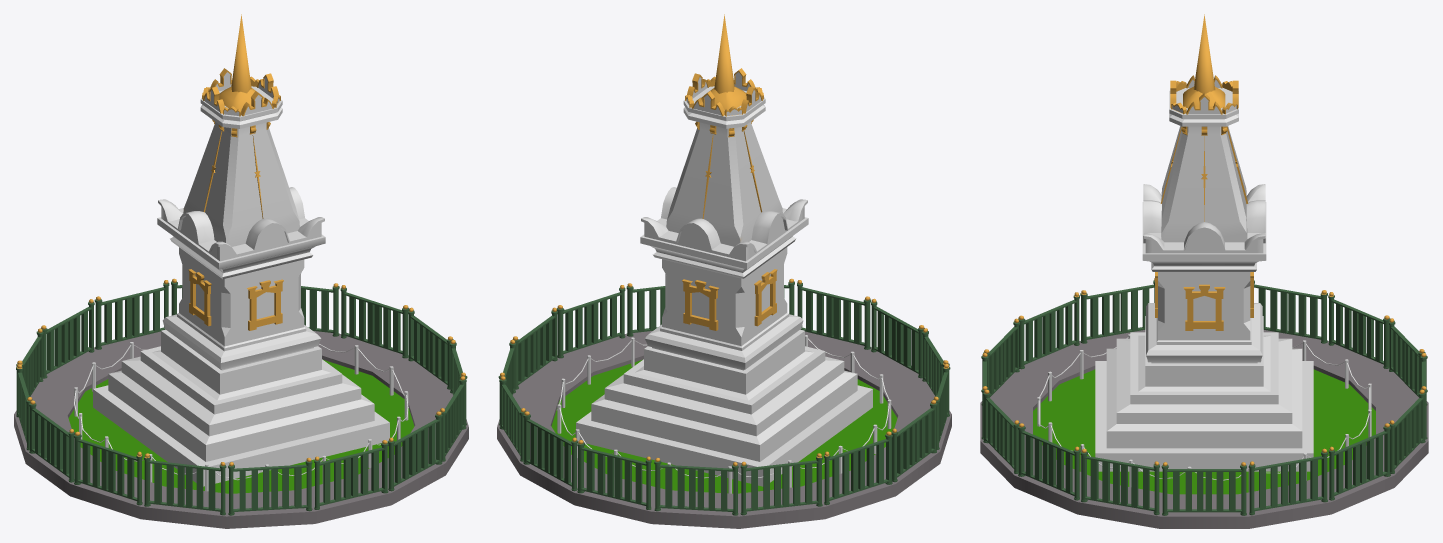
Rendered from Tugu.fbx.
3 renders of one model, left to right at view 1: azimuth 30°, elevation 25°; view 2: azimuth 150°, elevation 25°; view 3: azimuth 270°, elevation 25°, orthographic.
Parts seen in each view (by area): view 1: Tugu; view 2: Tugu; view 3: Tugu.
Boxes of the visible parts, x1=… form: Tugu: x1=14, y1=14, x2=468, y2=528; Tugu: x1=497, y1=14, x2=951, y2=528; Tugu: x1=980, y1=14, x2=1428, y2=528.
Bounding box in the file's own units: 499 × 516 × 499.
Materials: 1 (1 with a texture image).
